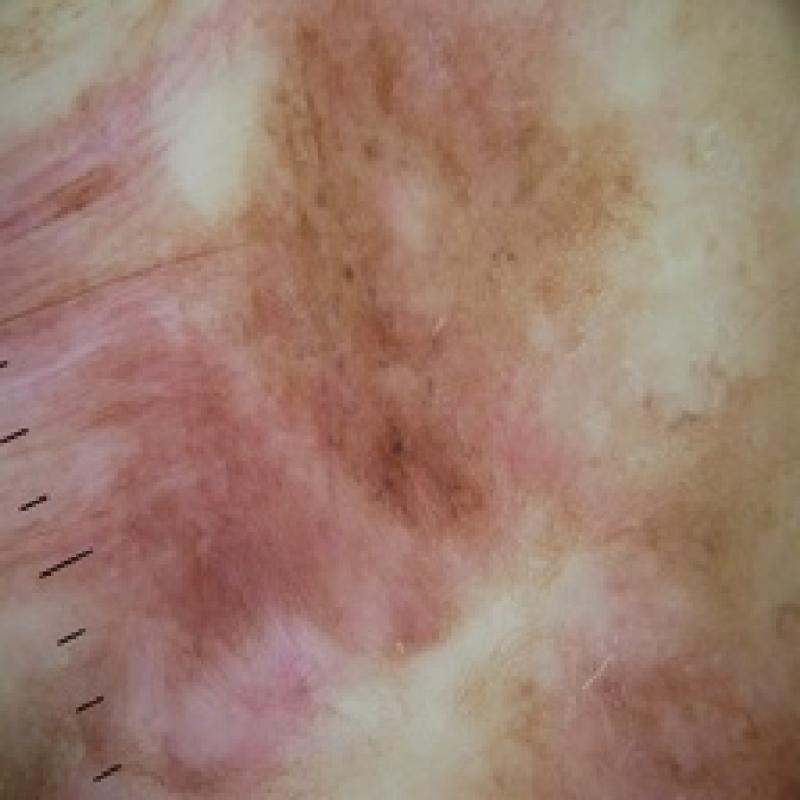malignant: (2, 17, 664, 796)
